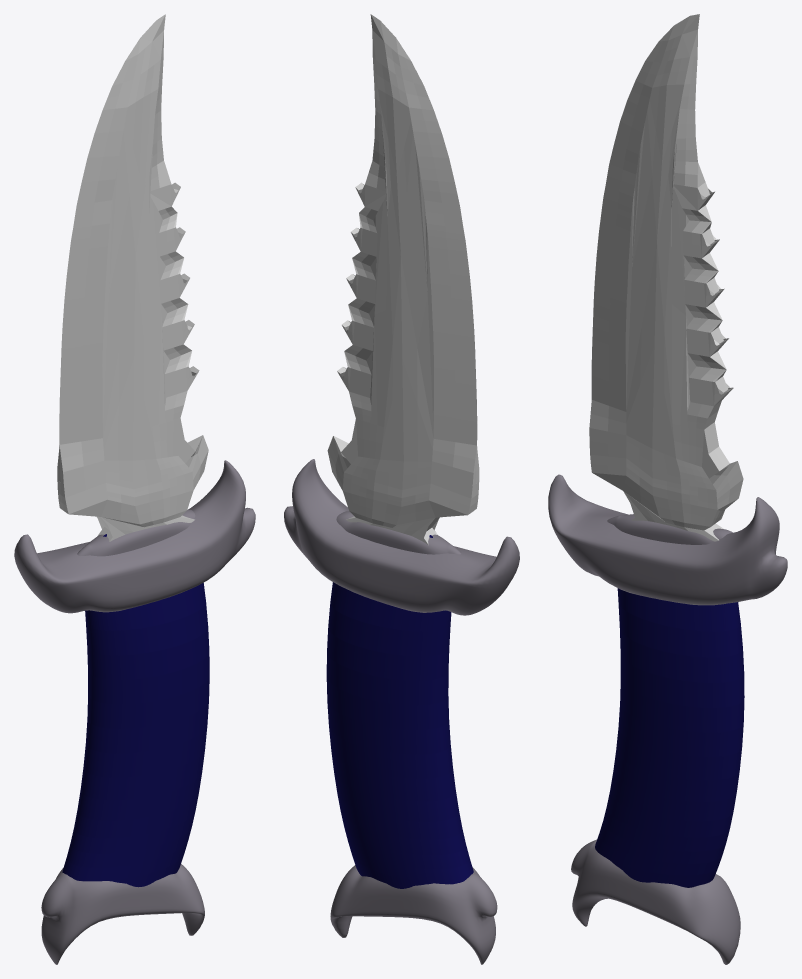
File: faca.fbx
3 renders of one model, left to right at view 1: azimuth 30°, elevation 25°; view 2: azimuth 150°, elevation 25°; view 3: azimuth 330°, elevation 25°, orthographic.
Parts seen in each view (by area): view 1: Cubo.001, Cilindro, Cubo, Cubo.002, Cubo.003; view 2: Cubo.001, Cilindro, Cubo, Cubo.002, Cubo.003; view 3: Cubo.001, Cilindro, Cubo, Cubo.002, Cubo.003.
Boxes of the visible parts, box(x1,y1,x2,y2) form: Cubo.001: box(57, 14, 208, 541); Cilindro: box(62, 534, 209, 887); Cubo: box(14, 460, 255, 613); Cubo.002: box(41, 864, 204, 964); Cubo.003: box(77, 509, 195, 556); Cubo.001: box(327, 14, 479, 544); Cilindro: box(326, 535, 473, 888); Cubo: box(284, 459, 519, 615); Cubo.002: box(330, 865, 497, 964); Cubo.003: box(336, 511, 461, 554); Cubo.001: box(589, 14, 743, 541); Cilindro: box(595, 588, 744, 887); Cubo: box(548, 474, 787, 605); Cubo.002: box(571, 839, 740, 964); Cubo.003: box(607, 514, 732, 544).
Size of the model in its own units: 379 by 1439 by 109.
